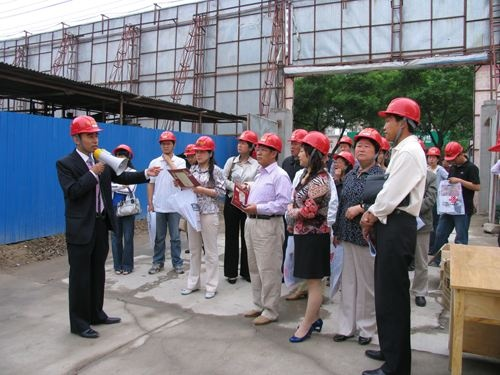red: (382, 96, 420, 141), (299, 130, 331, 169), (353, 128, 381, 167), (70, 115, 100, 151), (256, 132, 282, 167), (192, 135, 217, 166), (234, 130, 257, 156), (443, 140, 464, 166), (290, 128, 307, 157), (158, 131, 177, 156), (334, 150, 353, 173), (114, 143, 131, 166), (184, 143, 197, 166), (426, 146, 440, 166), (338, 136, 354, 153)
